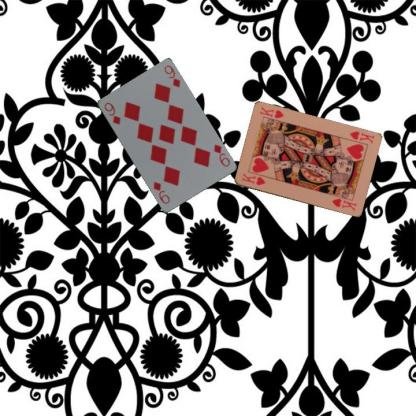9d: (101, 99, 121, 126), (211, 142, 231, 168)
Kh: (346, 128, 375, 145), (239, 170, 266, 186)
